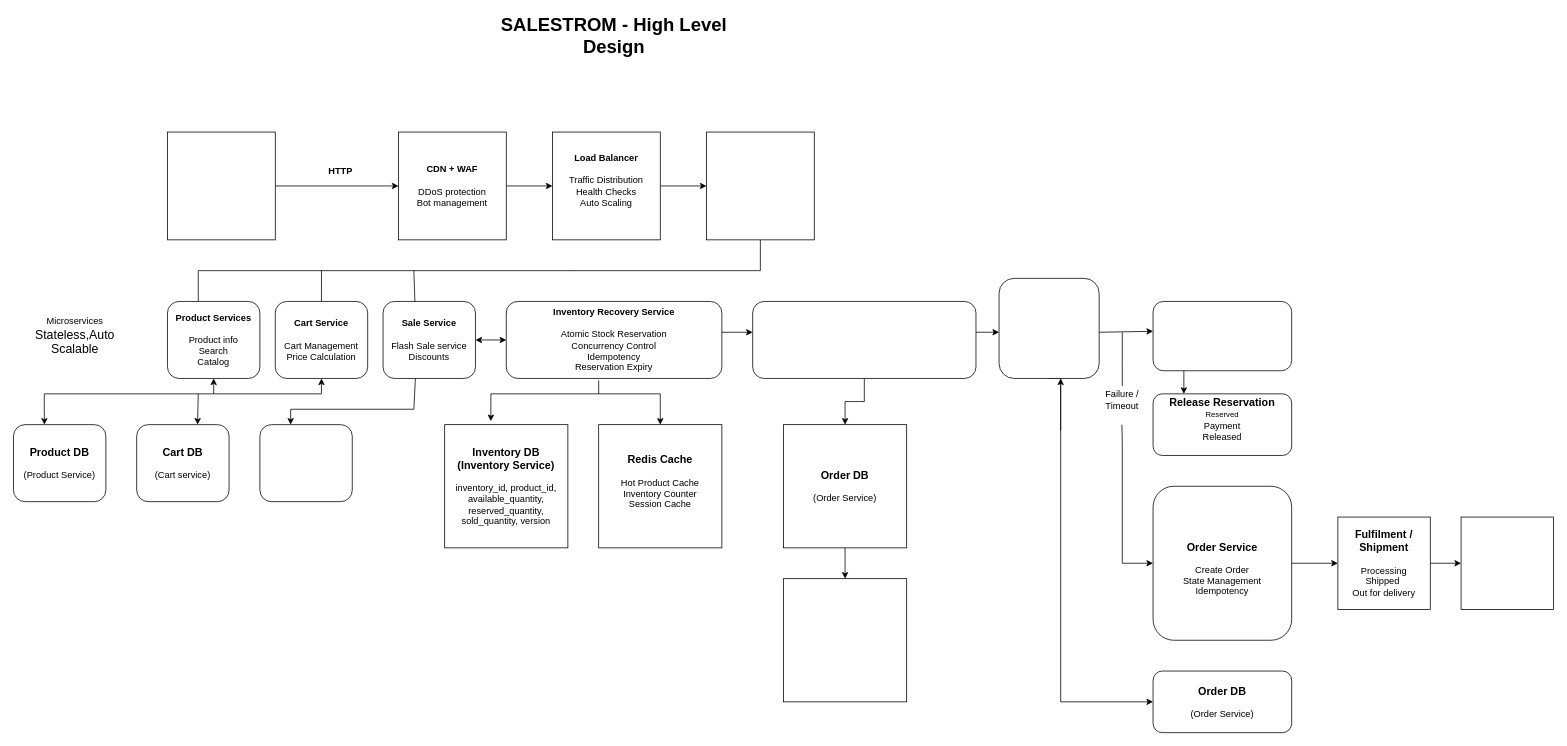
This 1567x746 diagram has some shape labels left out. Here are the shapes that lost their labels. From the top down, the box of each, then its label:
(167, 131, 275, 240): Customers 10000 concurrent purchase requests
(706, 131, 814, 240): API Gateway Authentication Rate Limiting Request Validation
(752, 301, 976, 378): Checkout Service Validate Reservation Calculate Amount Create Payment Request
(998, 278, 1099, 378): Payment Service Idempotency Payment gateway Circular Gateway
(1152, 301, 1292, 371): Message Queue Order Created Event Async Processing
(259, 424, 352, 502): Sale DB (Sale Service)
(1460, 516, 1553, 609): Notification Service Email SMS Push Notification
(783, 578, 907, 702): Payment DB (Payment Service)
